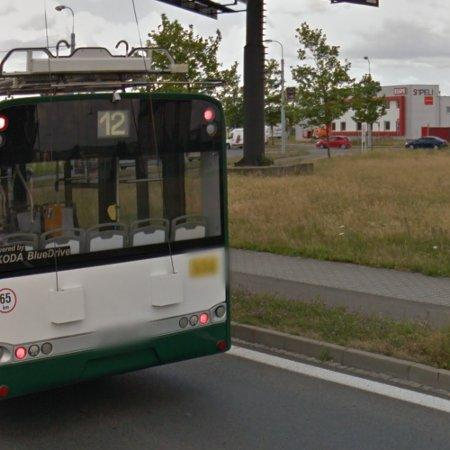buses: (0, 92, 231, 400)
